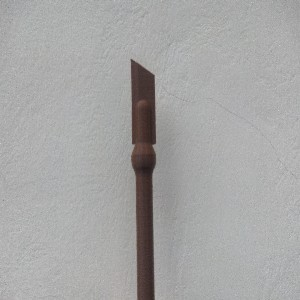cutter: (129, 57, 158, 300)
